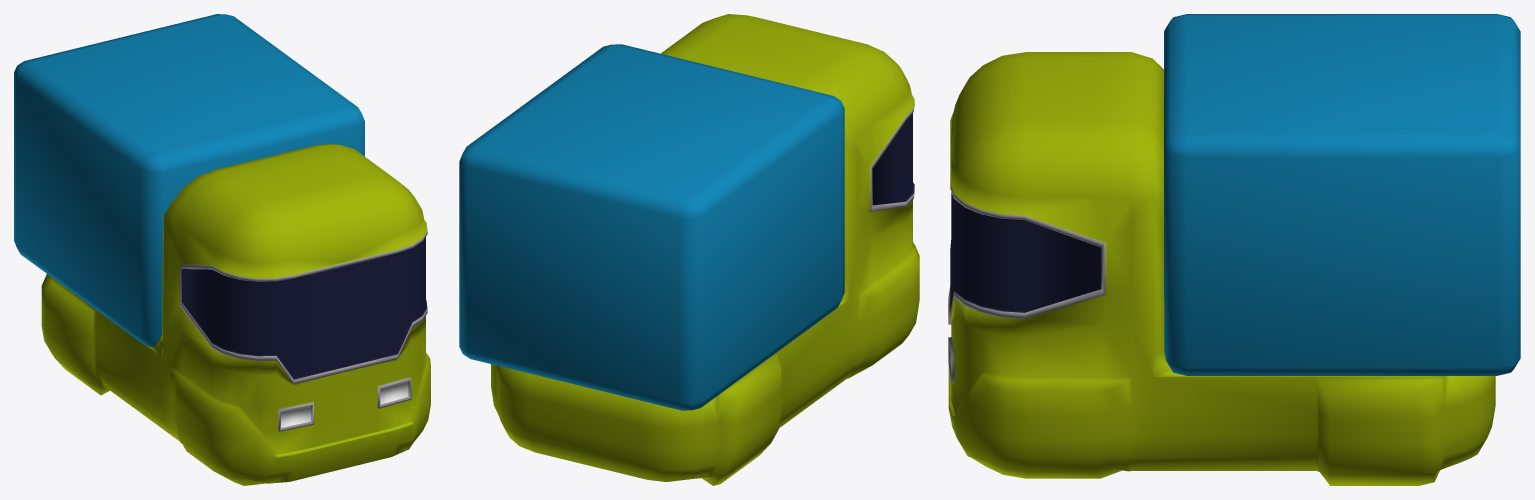
Rendered from Truck3.fbx.
3 renders of one model, left to right at view 1: azimuth 30°, elevation 25°; view 2: azimuth 150°, elevation 25°; view 3: azimuth 270°, elevation 25°, orthographic. The views are drawn at different scales.
Visible parts, largest first — view 1: Trcuck, Cargo; view 2: Cargo, Trcuck; view 3: Cargo, Trcuck.
Part boxes in pixels (x1,y1,x2,y2): Trcuck: (41, 144, 430, 485); Cargo: (14, 14, 364, 347); Cargo: (459, 44, 844, 410); Trcuck: (491, 14, 919, 485); Cargo: (1164, 14, 1520, 375); Trcuck: (948, 52, 1495, 485).
Bounding box in the file's own units: 1.22 × 1.48 × 2.15.
